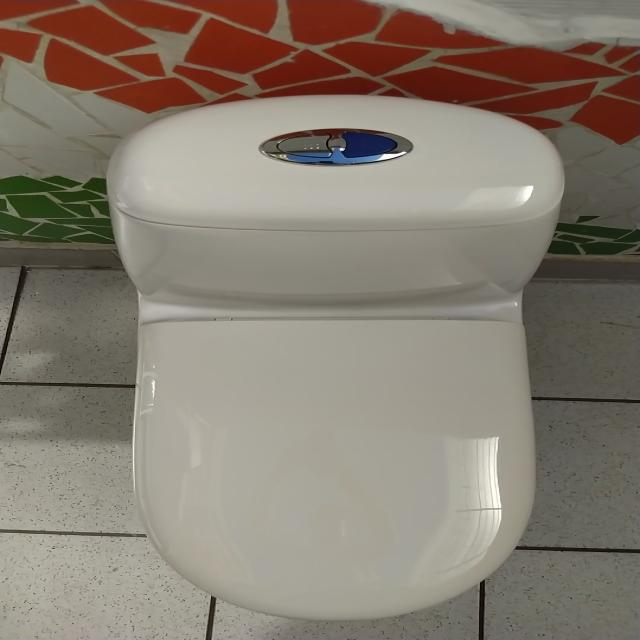toilet: (105, 94, 565, 621)
